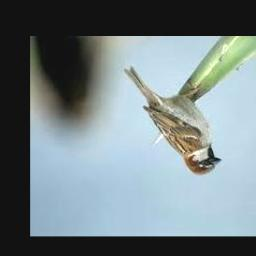Sparrow: (124, 67, 221, 176)
